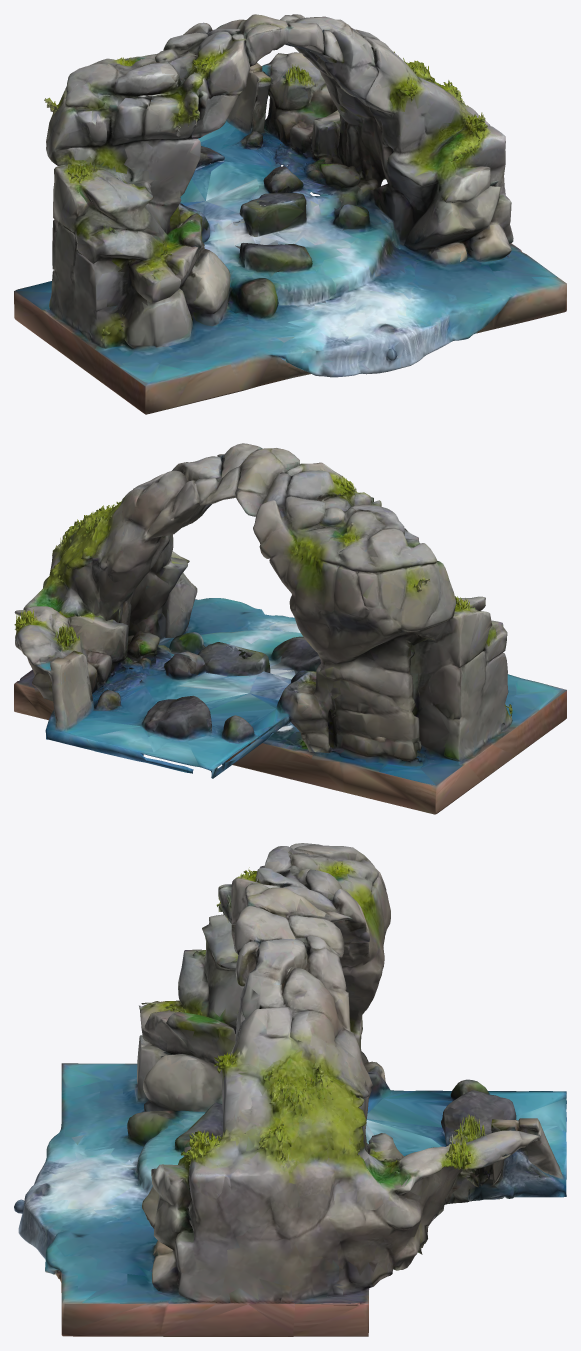
The model's file is highly_realistic_dior.glb.
3 renders of one model, top to bottom at view 1: azimuth 30°, elevation 25°; view 2: azimuth 150°, elevation 25°; view 3: azimuth 270°, elevation 25°, orthographic. The views are drawn at different scales.
Visible parts, largest first — view 1: highly_realistic_dior; view 2: highly_realistic_dior; view 3: highly_realistic_dior.
Part boxes in pixels (x1=…): highly_realistic_dior: x1=14, y1=14, x2=566, y2=414; highly_realistic_dior: x1=14, y1=443, x2=566, y2=814; highly_realistic_dior: x1=14, y1=843, x2=566, y2=1336.
Size of the model in its own units: 2 by 1.27 by 1.95.
1 material, 1 textured.
